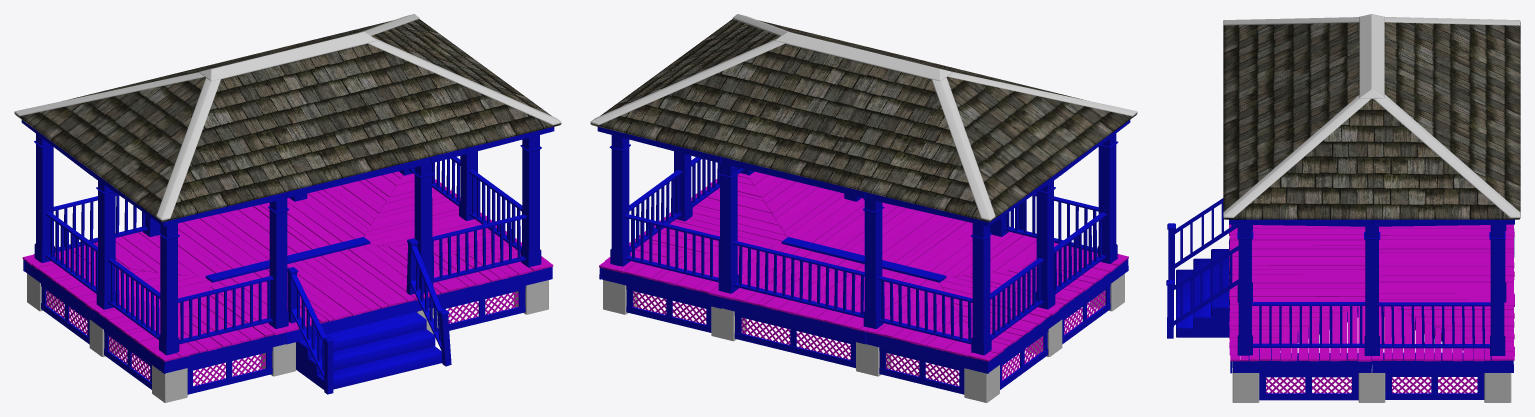
File: Terrace.fbx
3 renders of one model, left to right at view 1: azimuth 30°, elevation 25°; view 2: azimuth 150°, elevation 25°; view 3: azimuth 270°, elevation 25°, orthographic.
Visible parts, largest first — view 1: Terrace, RoofRidge; view 2: Terrace, RoofRidge; view 3: Terrace, RoofRidge.
Part boxes in pixels (x1,y1,x2,y2): Terrace: [14, 19, 561, 402]; RoofRidge: [14, 14, 561, 220]; Terrace: [590, 19, 1137, 402]; RoofRidge: [590, 14, 1137, 220]; Terrace: [1166, 22, 1520, 402]; RoofRidge: [1223, 14, 1520, 217].
Size of the model in its own units: 692 by 422 by 527.
